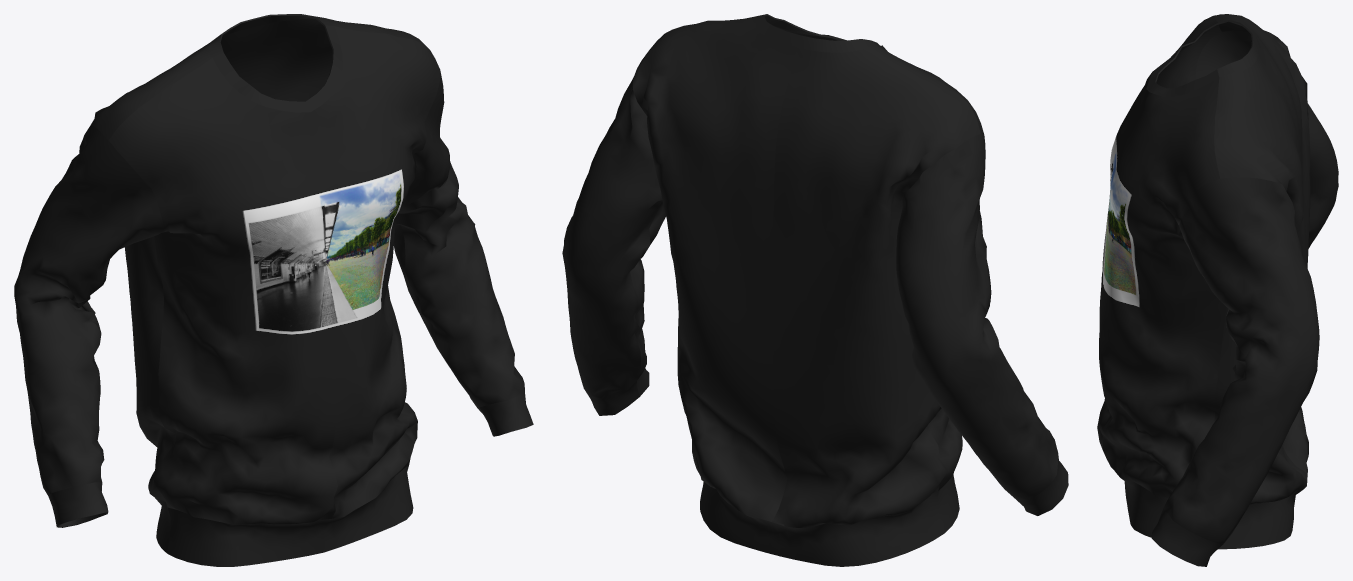
File: sweatshirtChamps.gltf
3 renders of one model, left to right at view 1: azimuth 30°, elevation 25°; view 2: azimuth 150°, elevation 25°; view 3: azimuth 270°, elevation 25°, orthographic. The views are drawn at different scales.
Visible parts, largest first — view 1: Pattern2D_41597.001, Pattern2D_768528.001; view 2: Pattern2D_41597.001, Pattern2D_768528.001; view 3: Pattern2D_41597.001, Pattern2D_768528.001.
Boxes of the visible parts, x1,y1,x2,y2 form: Pattern2D_41597.001: (14,18,524,524); Pattern2D_768528.001: (48,14,533,566); Pattern2D_41597.001: (562,16,1058,527); Pattern2D_768528.001: (590,14,1068,566); Pattern2D_41597.001: (1097,14,1338,544); Pattern2D_768528.001: (1121,19,1307,566).
Size of the model in its own units: 67.35 by 68.89 by 31.94.
2 materials, 2 textured.
